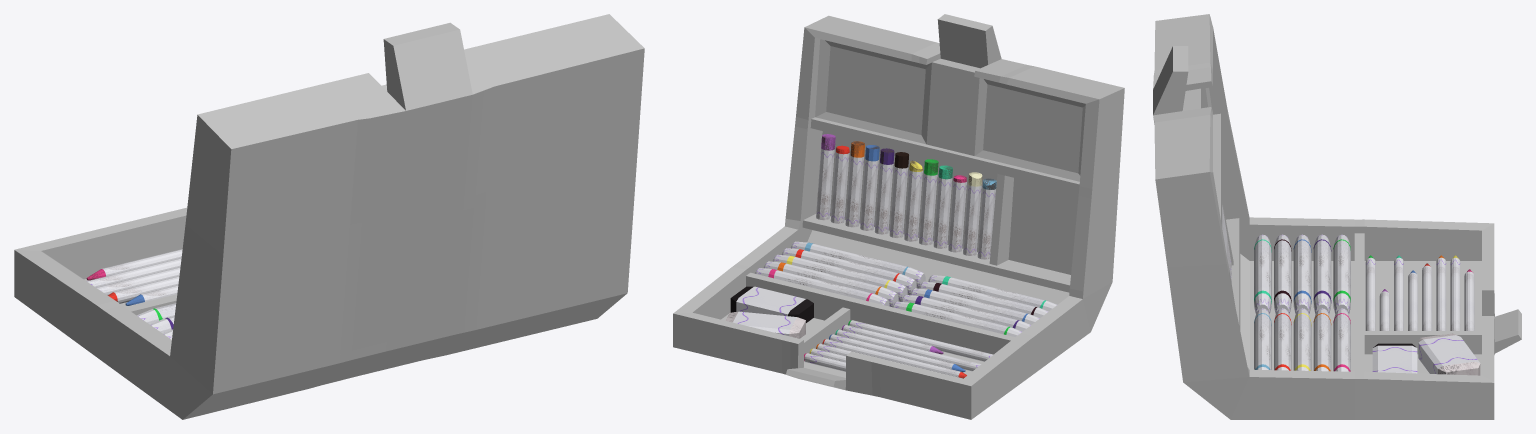
The model's file is ArtKit.fbx.
The picture shows the model from 3 angles, left to right: view 1: azimuth 30°, elevation 25°; view 2: azimuth 150°, elevation 25°; view 3: azimuth 270°, elevation 25°; orthographic projection. The views are drawn at different scales.
Parts seen in each view (by area): view 1: case, pencils.007, pencils.006, pencils.005, pencils.004; view 2: case, eraser1, eraser2, markers.003, markers.004, markers.002, markers.001, markers, pasels.007, pasels.009, pasels.004, pasels.011 (+19 smaller); view 3: case, eraser2, markers.006, markers.007, eraser1, markers.009, markers.005, markers.008, markers.001, markers.002, markers, markers.003 (+9 smaller).
Part boxes in pixels (x1,y1,x2,y2): case: [14, 14, 644, 419]; pencils.007: [86, 249, 182, 280]; pencils.006: [86, 258, 181, 287]; pencils.005: [96, 267, 180, 295]; pencils.004: [108, 276, 179, 303]; case: [673, 14, 1124, 419]; eraser1: [730, 286, 813, 322]; eraser2: [725, 311, 805, 338]; markers.003: [781, 248, 916, 295]; markers.004: [790, 241, 925, 288]; markers.002: [772, 254, 907, 301]; markers.001: [763, 261, 898, 306]; markers: [755, 268, 889, 306]; pasels.007: [874, 148, 894, 234]; pasels.009: [845, 141, 864, 227]; pasels.004: [919, 159, 938, 245]; pasels.011: [816, 134, 835, 220]; case: [1153, 14, 1521, 419]; eraser2: [1418, 333, 1480, 375]; markers.006: [1313, 234, 1331, 313]; markers.007: [1293, 234, 1311, 313]; eraser1: [1372, 343, 1417, 373]; markers.009: [1254, 234, 1271, 313]; markers.005: [1333, 234, 1350, 313]; markers.008: [1274, 234, 1291, 313]; markers.001: [1313, 308, 1331, 371]; markers.002: [1293, 308, 1311, 370]; markers: [1333, 308, 1350, 371]; markers.003: [1274, 308, 1291, 370].
Bounding box in the file's own units: 531 × 438 × 519.
